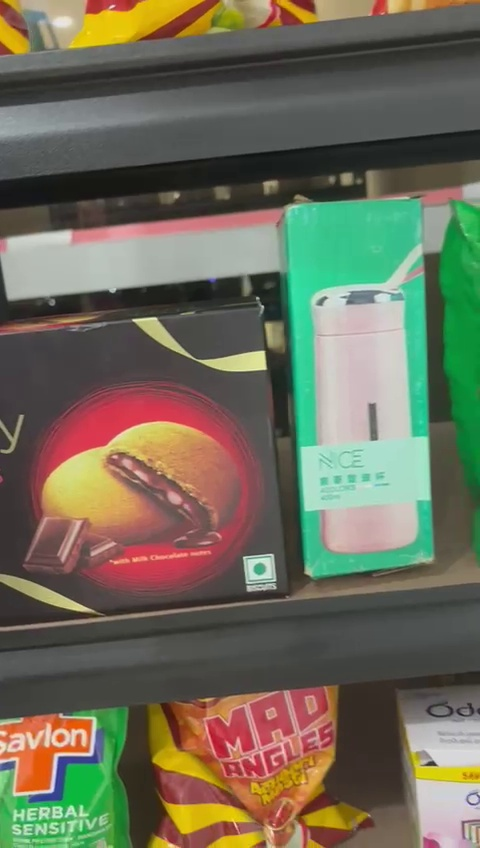Bottle: (280, 198, 451, 575)
